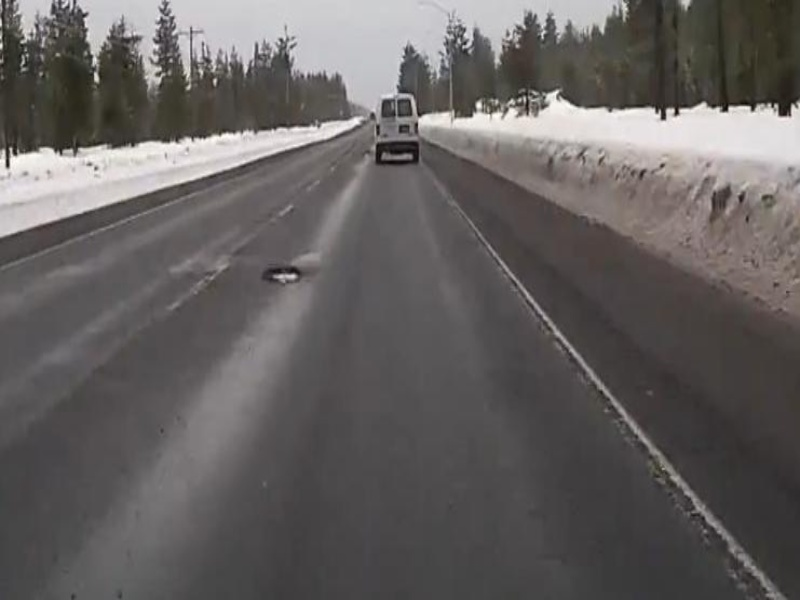pothole: (259, 265, 306, 287)
